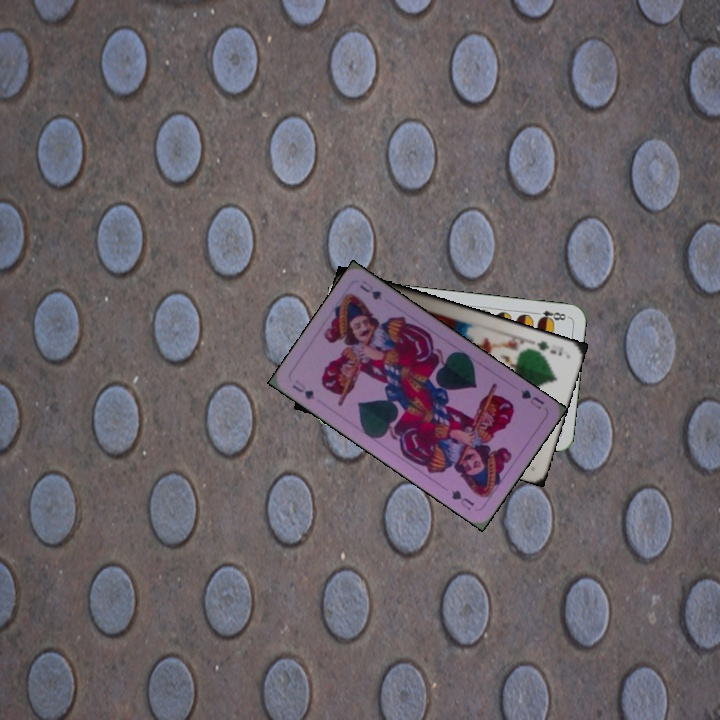E8: (530, 306, 571, 325)
GK: (532, 337, 566, 359)
GU: (517, 385, 547, 412), (288, 376, 317, 402)
